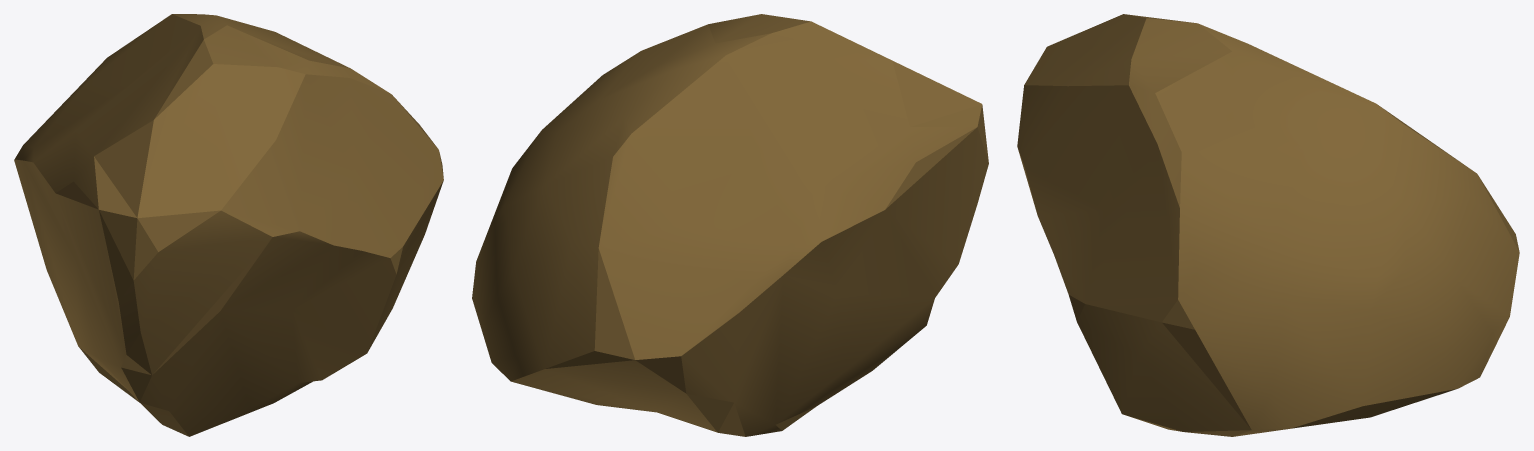
File: RockM1.FBX
The picture shows the model from 3 angles, left to right: view 1: azimuth 30°, elevation 25°; view 2: azimuth 150°, elevation 25°; view 3: azimuth 270°, elevation 25°; orthographic projection. The views are drawn at different scales.
Parts seen in each view (by area): view 1: GeoSphere008; view 2: GeoSphere008; view 3: GeoSphere008.
Boxes of the visible parts, left/top/right/bottom form: GeoSphere008: left=14, top=14, right=443, bottom=436; GeoSphere008: left=472, top=14, right=988, bottom=436; GeoSphere008: left=1017, top=14, right=1519, bottom=436.
Bounding box in the file's own units: 134 × 116 × 140.
